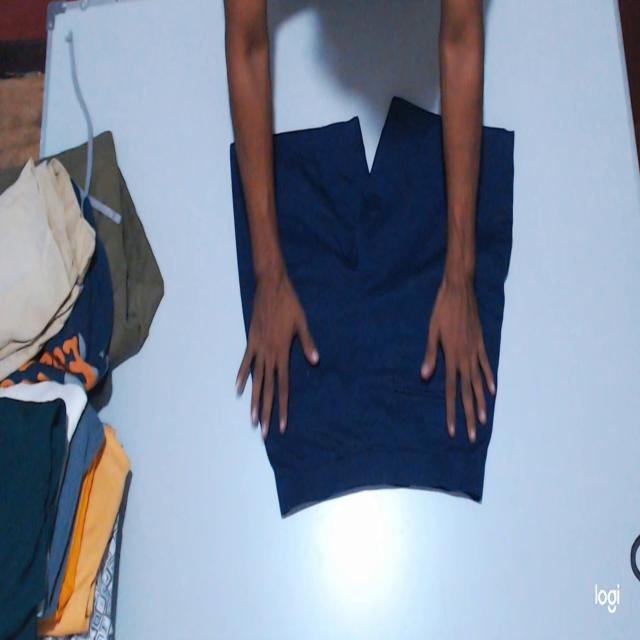new-garment: (265, 97, 496, 516), (474, 126, 515, 370), (230, 142, 258, 343)
